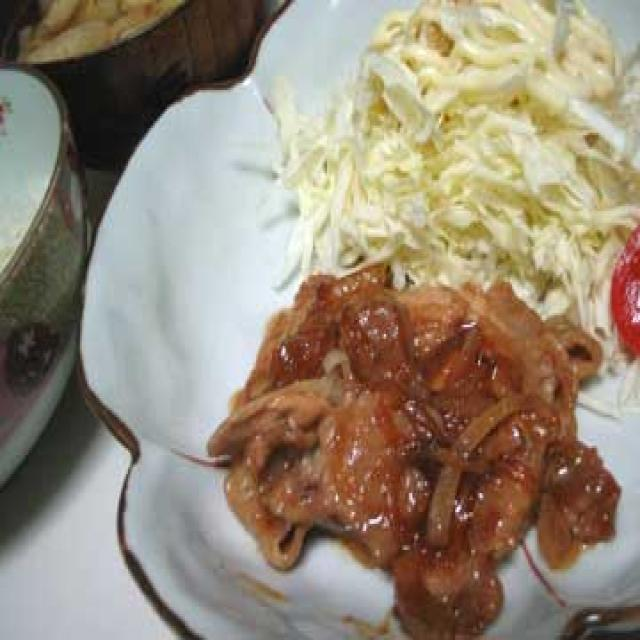猪肉菜式: (199, 0, 640, 640)
